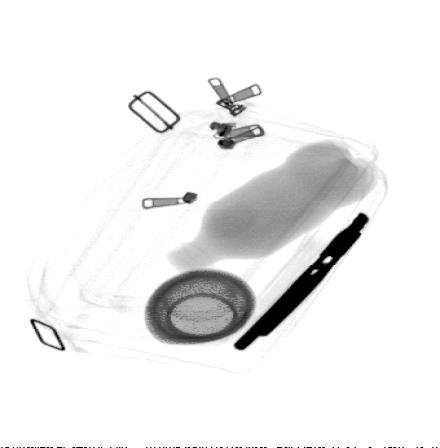Pliers: (232, 210, 371, 351)
